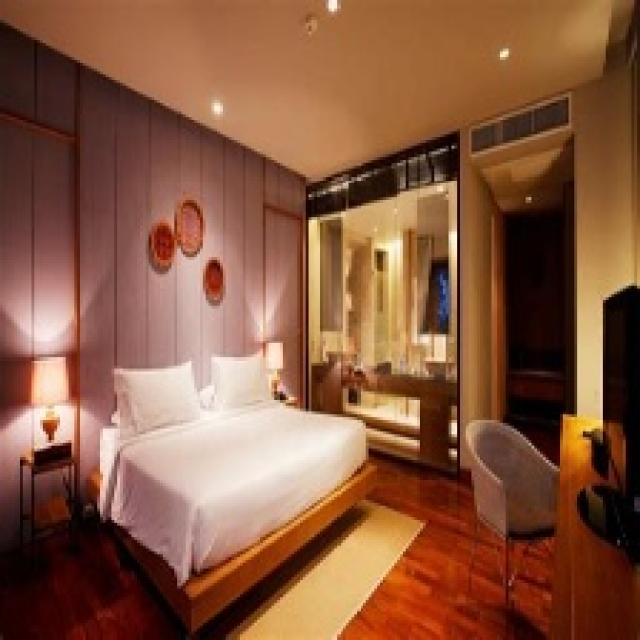Bed: (89, 394, 374, 637)
